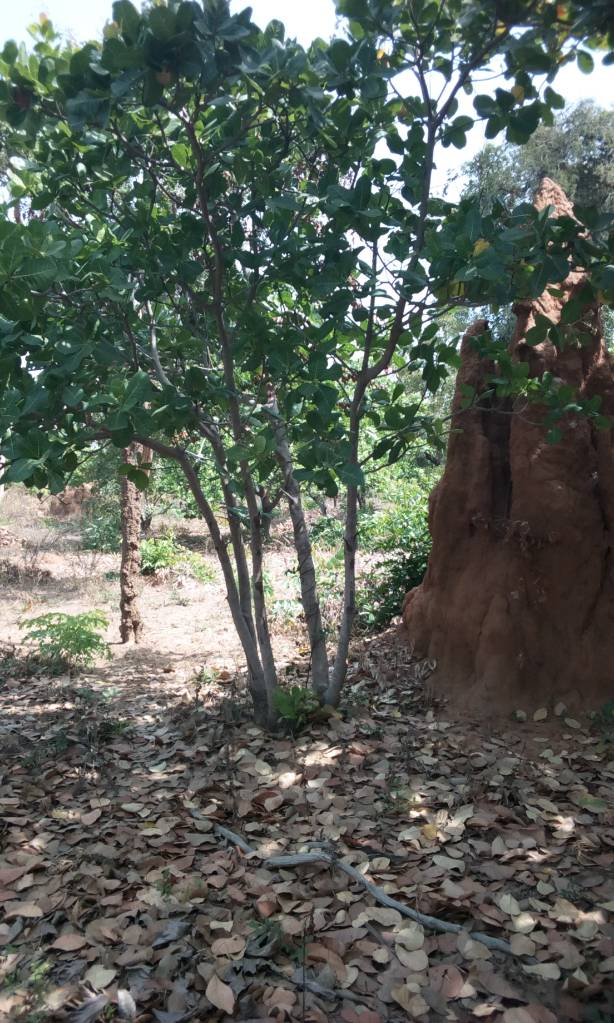Termites: (434, 435, 614, 707)
